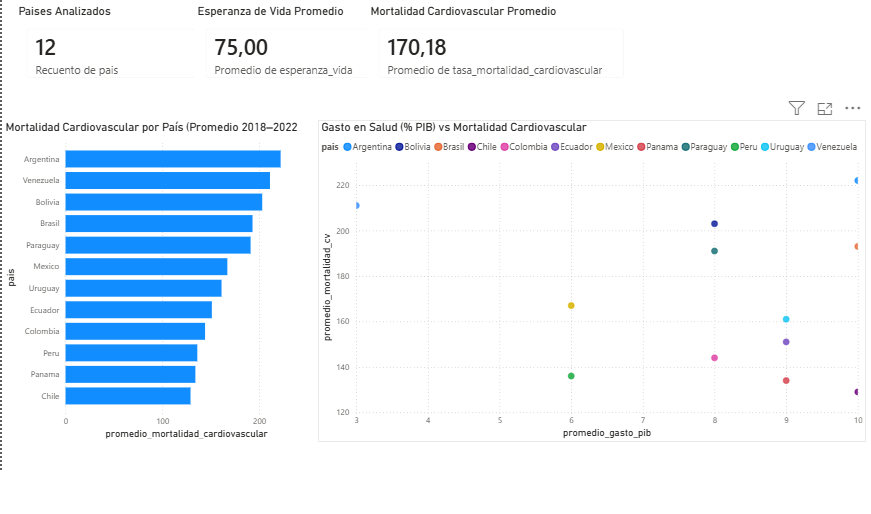

What the dashboard file says about the page in this screenshot:
{"tool":"powerbi","page":{"name":"Resumen General","canvas":[1280,720],"ordinal":0},"visuals":[{"type":"cardVisual","title":"Paises Analizados","fields":{"Data":["Count(salud_latam.pais)"]},"box":[18.5,13.4,280.5,126],"z":0},{"type":"cardVisual","title":"Esperanza de Vida Promedio","fields":{"Data":["Avg(salud_latam.esperanza_vida)"]},"box":[280.5,13.4,280.5,126],"z":1000},{"type":"cardVisual","title":"Mortalidad Cardiovascular Promedio","fields":{"Data":["Avg(salud_latam.tasa_mortalidad_cardiovascular)"]},"box":[534.2,13.4,393.1,126],"z":2000},{"type":"clusteredBarChart","title":"Mortalidad Cardiovascular por País (Promedio 2018–2022","fields":{"Category":["ranking_mortalidad.pais"],"Y":["Sum(ranking_mortalidad.promedio_mortalidad_cardiovascular)"]},"box":[0,182.9,462.4,471.2],"z":3000},{"type":"scatterChart","title":"Gasto en Salud (% PIB) vs Mortalidad Cardiovascular","fields":{"Series":["gasto_vs_mortalidad.pais"],"X":["gasto_vs_mortalidad.promedio_gasto_pib"],"Y":["gasto_vs_mortalidad.promedio_mortalidad_cv"]},"box":[462.4,182.9,802,471.2],"z":4000}]}

Visuals, with their boxes on the page's 1280x720 design canvas (x1, y1, x2, y2). These are canvas units, not pixel positions in the 871x514 screenshot, which may show the page scaled, cropped or inside an application window:
"Paises Analizados" cardVisual: [18,13,299,139]
"Esperanza de Vida Promedio" cardVisual: [280,13,561,139]
"Mortalidad Cardiovascular Promedio" cardVisual: [534,13,927,139]
"Mortalidad Cardiovascular por País (Promedio 2018–2022" clusteredBarChart: [0,183,462,654]
"Gasto en Salud (% PIB) vs Mortalidad Cardiovascular" scatterChart: [462,183,1264,654]
